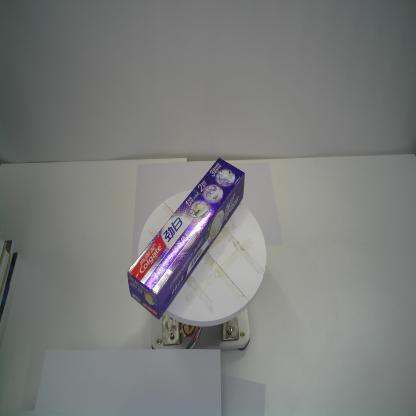Personal Hygiene: (127, 157, 246, 320)
